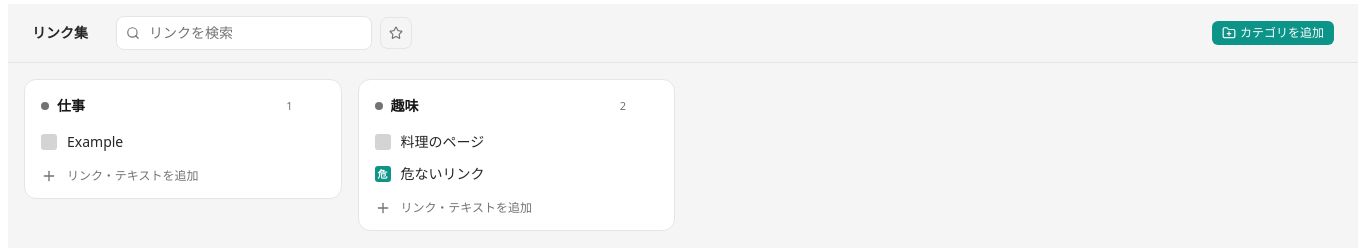
it: お気に入りだけ表示 › お気に入りが 1 つも無いときは、そう知らせる
Expected: the text "Example" is shown, [67,132,123,152]
Click the button named "お気に入りだけ表示": (396, 33) [380,17,412,49]
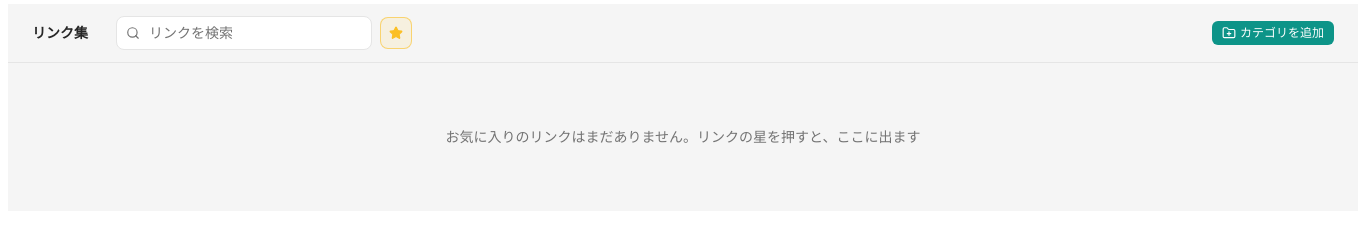
Expected: the text "お気に入りのリンクはまだありません。リンクの星を押すと、ここに出ます" is shown, [446,127,920,146]
